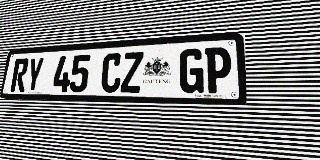4: (52, 56, 73, 92)
5: (69, 55, 91, 92)
C: (100, 53, 123, 93)
G: (179, 48, 204, 93)
P: (205, 47, 232, 93)
R: (10, 58, 29, 92)
Y: (25, 57, 44, 92)
Z: (120, 52, 144, 93)
